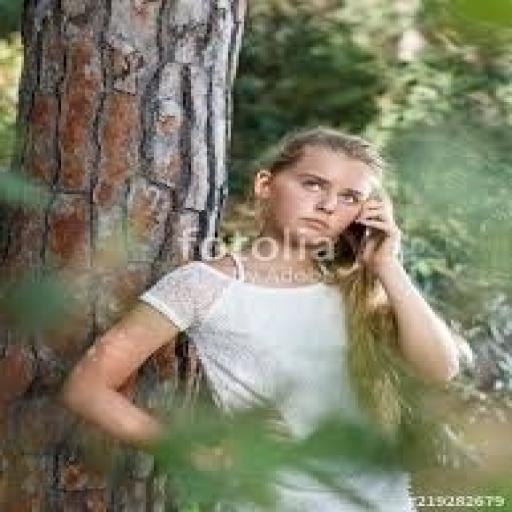texting: (53, 126, 486, 510)
